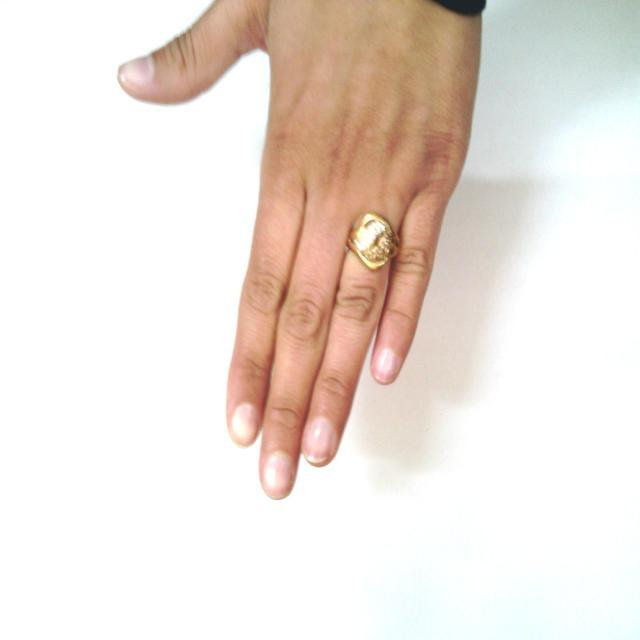Fingernail: (264, 454, 293, 498), (304, 419, 333, 463), (233, 405, 258, 445), (121, 58, 152, 89), (374, 349, 397, 381)
